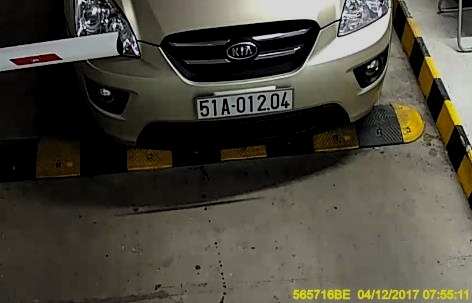plate: (195, 86, 304, 120)
